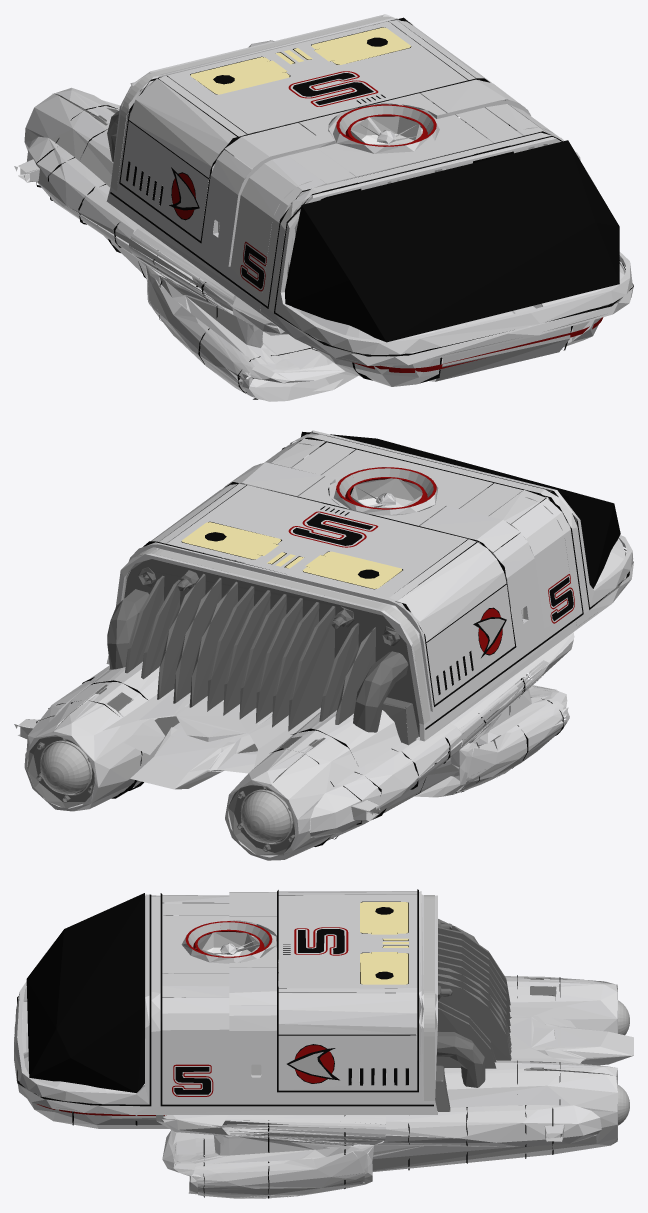
Rendered from SpaceShip3LP.fbx.
3 renders of one model, top to bottom at view 1: azimuth 30°, elevation 25°; view 2: azimuth 150°, elevation 25°; view 3: azimuth 270°, elevation 25°, orthographic. The views are drawn at different scales.
Visible parts, largest first — view 1: White-Dirt, Glass, White-Dir0, Black, Yellow-Dir, Red-Dirty, BlkYllw-Ri, DarkGrey-D, Object02, Grey-Dirty; view 2: White-Dirt, White-Dir0, DarkGrey-D, Black, Grey-Dirty, Glass, Yellow-Dir, BlkYllw-Ri, Red-Dirty, Object02; view 3: White-Dirt, White-Dir0, Glass, DarkGrey-D, Black, Yellow-Dir, Red-Dirty, BlkYllw-Ri, Grey-Dirty, Object02.
Boxes of the visible parts, x1,y1,x2,y2 form: White-Dirt: (106, 14, 633, 365); Glass: (285, 140, 619, 342); White-Dir0: (14, 40, 601, 401); Black: (36, 17, 633, 399); Yellow-Dir: (190, 27, 410, 94); Red-Dirty: (172, 71, 603, 372); BlkYllw-Ri: (110, 16, 427, 191); DarkGrey-D: (56, 23, 632, 364); Object02: (350, 116, 421, 145); Grey-Dirty: (78, 105, 433, 207); White-Dirt: (106, 430, 633, 741); White-Dir0: (14, 568, 574, 860); DarkGrey-D: (27, 559, 629, 855); Black: (36, 432, 629, 846); Grey-Dirty: (40, 468, 504, 844); Glass: (301, 431, 620, 588); Yellow-Dir: (182, 522, 402, 588); BlkYllw-Ri: (122, 549, 430, 724); Red-Dirty: (288, 467, 574, 654); Object02: (350, 477, 422, 520); White-Dirt: (14, 891, 437, 1114); White-Dir0: (21, 976, 633, 1198); Glass: (26, 893, 144, 1092); DarkGrey-D: (14, 919, 617, 1112); Black: (17, 889, 560, 1198); Yellow-Dir: (360, 902, 408, 984); Red-Dirty: (37, 921, 348, 1115); BlkYllw-Ri: (424, 895, 434, 1100); Grey-Dirty: (188, 922, 629, 1125); Object02: (195, 932, 259, 967).
Bounding box in the file's own units: 1112 × 707 × 1927.
